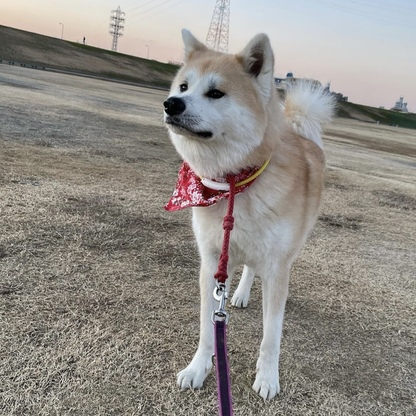akita: (147, 23, 345, 401)
